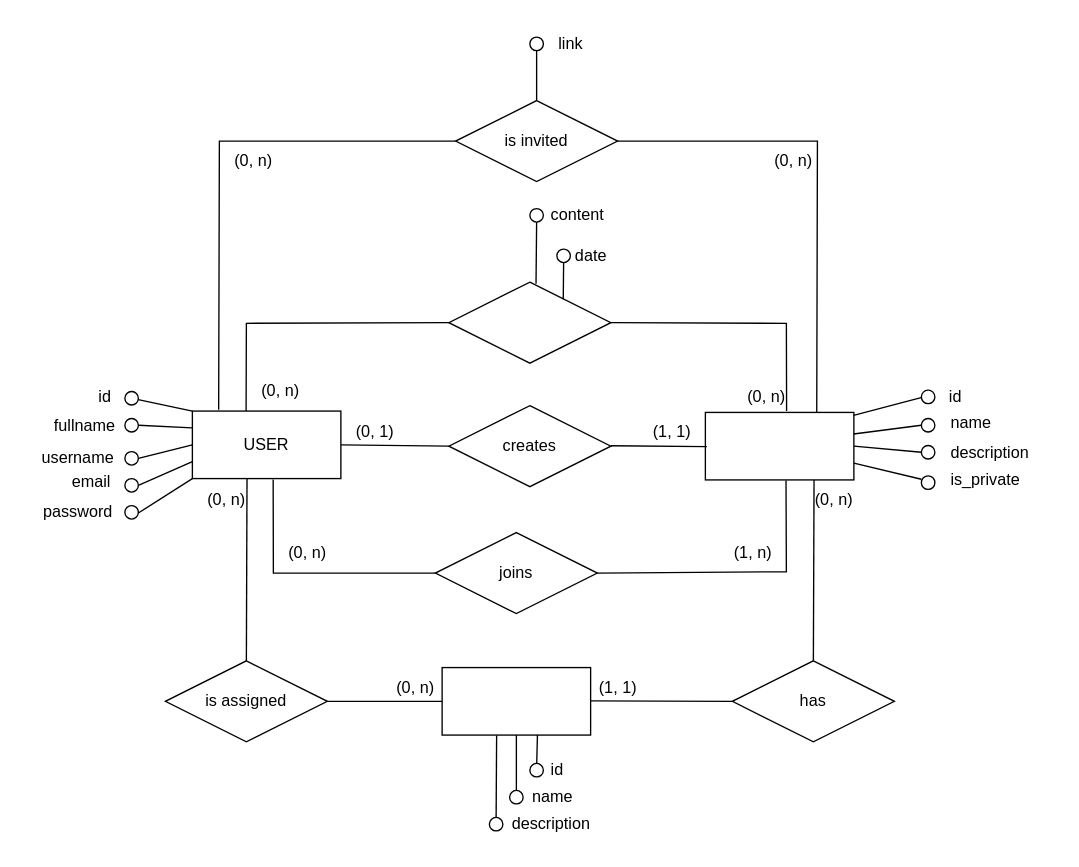
The diagram is 1079 pixels wide and 867 high, and some of its shapes have lost their labels. Here are the shapes that lost their labels. From the top down, the centre of each, then its label:
At (x=529, y=322): "sends message".
At (x=779, y=445): "ROOM".
At (x=516, y=700): "ROLE".
